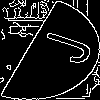J: (25, 25, 97, 67)
